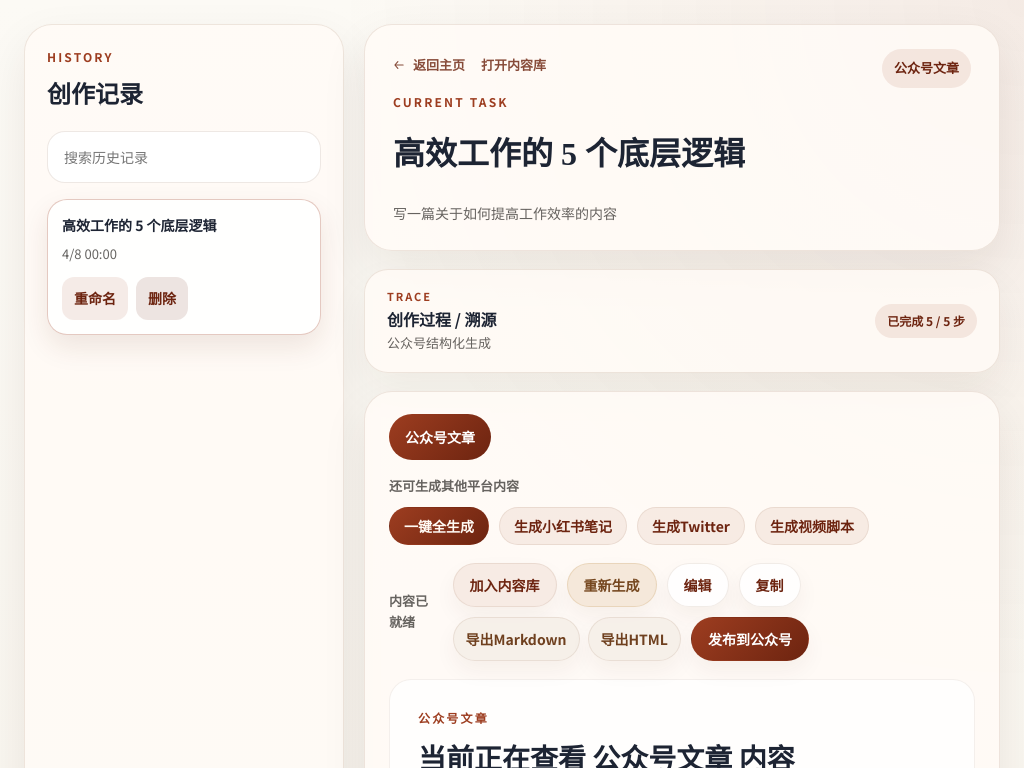
WorkspaceShell › adds a new platform from the workspace and generates content immediately
The image size is (1024, 768).
Click the button "生成小红书笔记" at coordinates (563, 526), box x1=499 y1=507 x2=627 y2=545
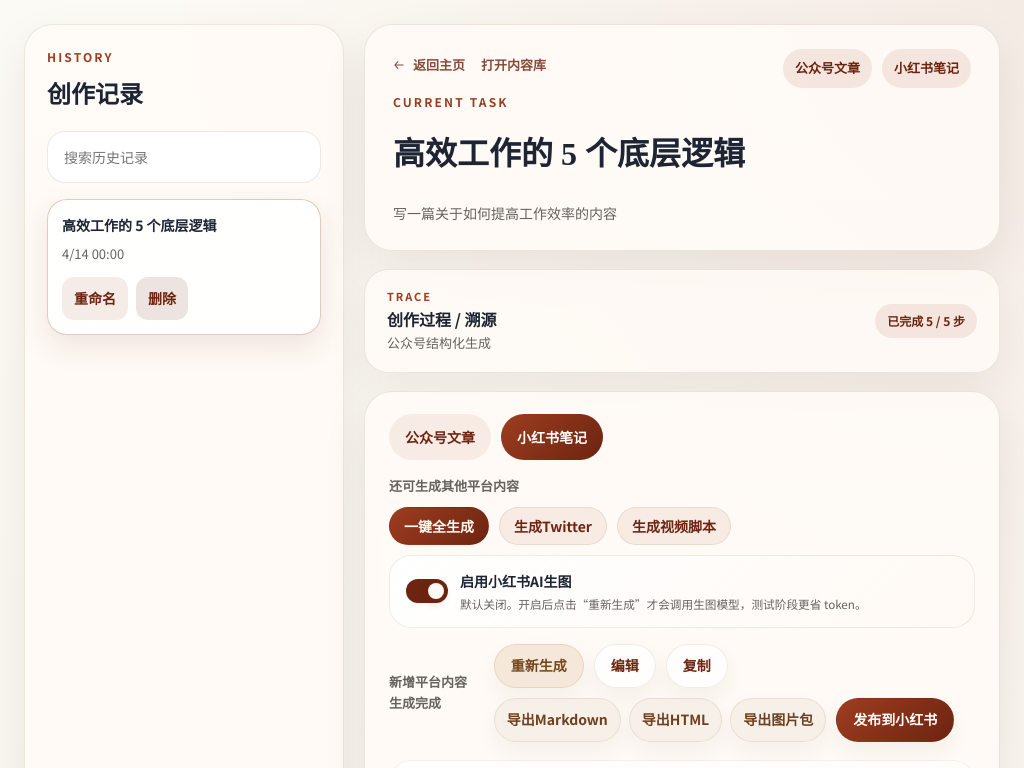
Now the text "新增平台内容生成完成" is shown, box x1=389 y1=672 x2=478 y2=713
Now the checkbox labelled "启用小红书AI生图" is checked, box x1=389 y1=555 x2=975 y2=628
